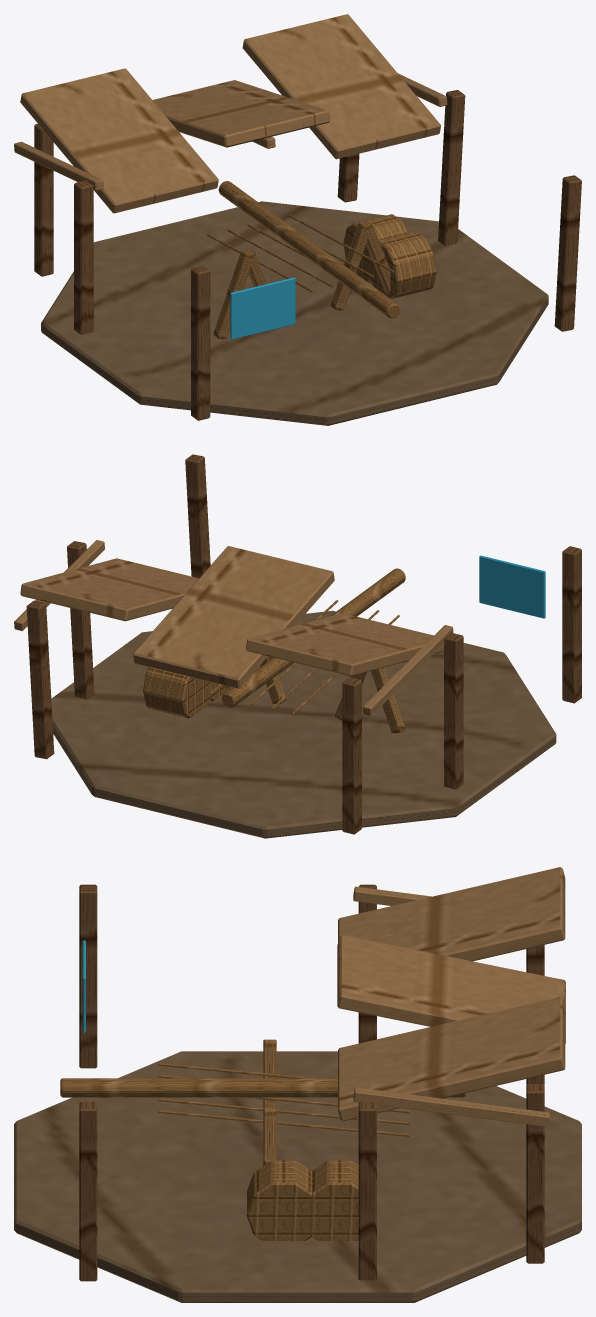
File: edificio-b_016-e0-lod0-DZQY2zX2.glb
3 views of the same model, one above another, from view 1: azimuth 30°, elevation 25°; view 2: azimuth 150°, elevation 25°; view 3: azimuth 270°, elevation 25° (orthographic). The views are drawn at different scales.
Parts seen in each view (by area): view 1: envolvente_fabrica_asedio_e0, mecanismo_fabrica_asedio_e0, team_color; view 2: envolvente_fabrica_asedio_e0, mecanismo_fabrica_asedio_e0, team_color; view 3: envolvente_fabrica_asedio_e0, mecanismo_fabrica_asedio_e0.
Part boxes in pixels (x1,y1,x2,y2): envolvente_fabrica_asedio_e0: (14, 14, 581, 425); mecanismo_fabrica_asedio_e0: (207, 181, 436, 339); team_color: (230, 277, 295, 339); envolvente_fabrica_asedio_e0: (14, 454, 581, 838); mecanismo_fabrica_asedio_e0: (143, 568, 405, 733); team_color: (479, 555, 545, 618); envolvente_fabrica_asedio_e0: (14, 867, 581, 1302); mecanismo_fabrica_asedio_e0: (60, 1039, 465, 1240).
Size of the model in its own units: 40.65 by 17.55 by 40.65.
2 materials, 1 textured.
